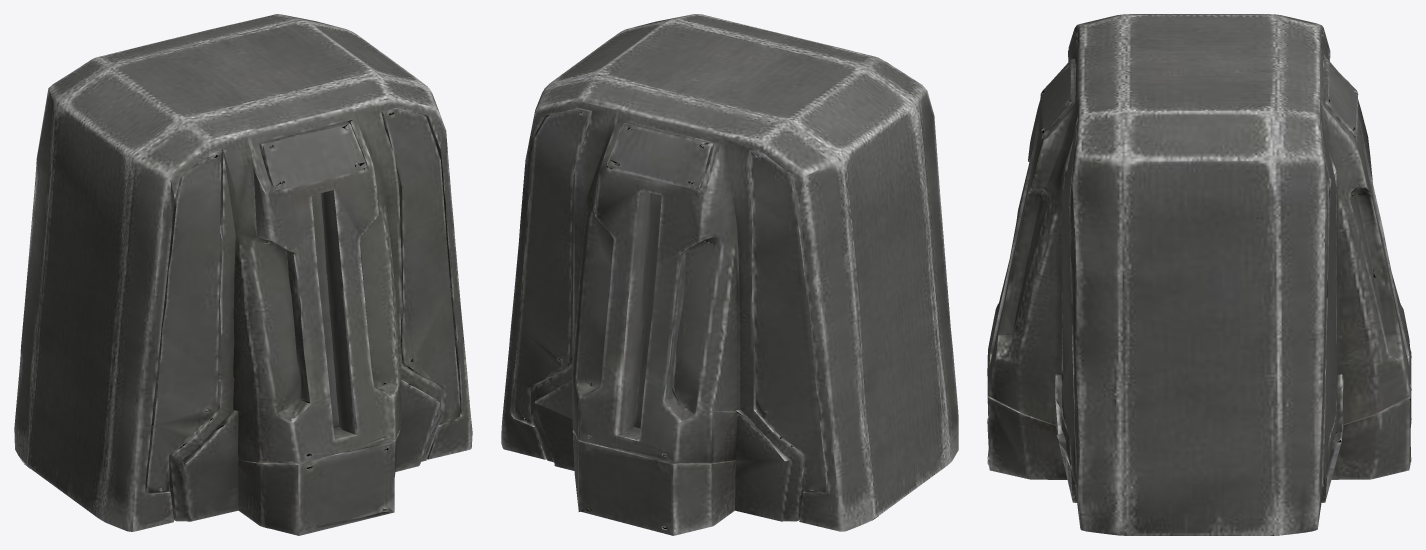
The model's file is pylon.glb.
The picture shows the model from 3 angles, left to right: view 1: azimuth 30°, elevation 25°; view 2: azimuth 150°, elevation 25°; view 3: azimuth 270°, elevation 25°; orthographic projection.
Visible parts, largest first — view 1: pylon; view 2: pylon; view 3: pylon.
Part boxes in pixels (x1=…): pylon: x1=14, y1=14, x2=472, y2=535; pylon: x1=501, y1=14, x2=958, y2=535; pylon: x1=987, y1=14, x2=1411, y2=535.
Size of the model in its own units: 1 by 1 by 1.
Materials: 1 (1 with a texture image).
